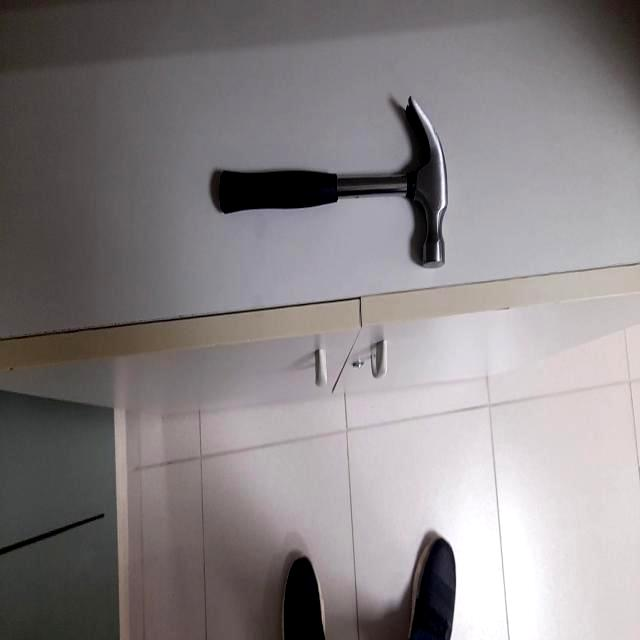hammer: (219, 96, 449, 274)
